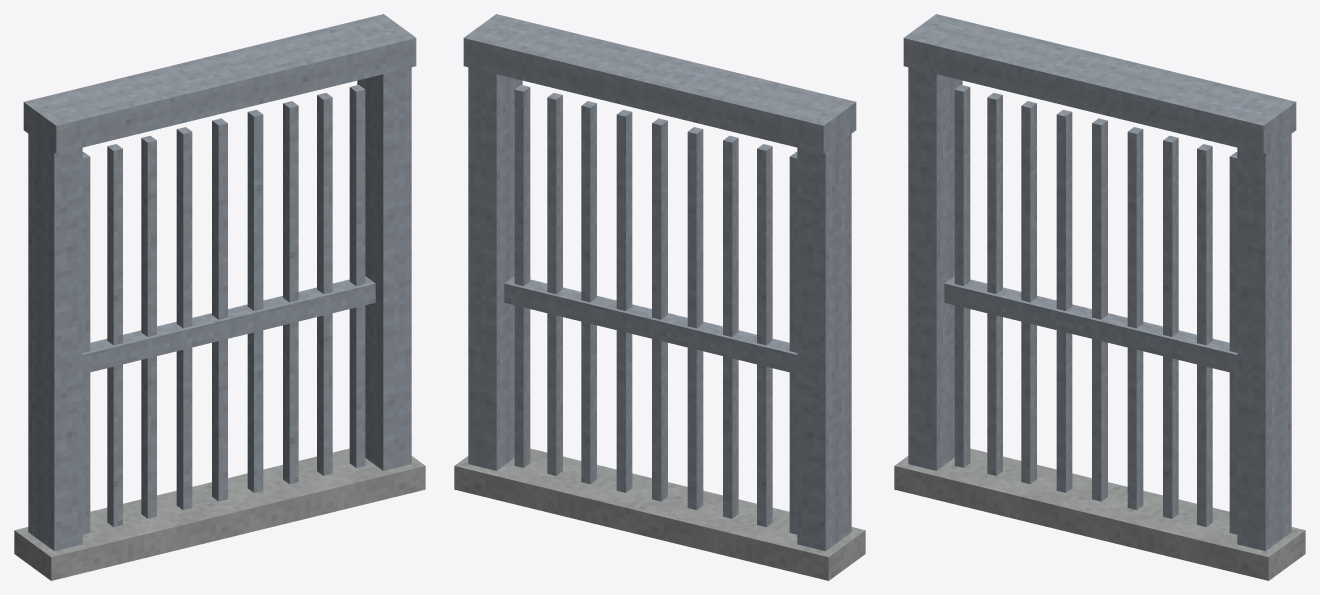
Rendered from level_blockout_prison_sally_gate.glb.
3 renders of one model, left to right at view 1: azimuth 30°, elevation 25°; view 2: azimuth 150°, elevation 25°; view 3: azimuth 330°, elevation 25°, orthographic.
Parts seen in each view (by area): view 1: level_blockout_prison_sally_gate; view 2: level_blockout_prison_sally_gate; view 3: level_blockout_prison_sally_gate.
Boxes of the visible parts, left/top/right/bottom form: level_blockout_prison_sally_gate: left=14, top=14, right=425, bottom=580; level_blockout_prison_sally_gate: left=454, top=14, right=865, bottom=580; level_blockout_prison_sally_gate: left=894, top=14, right=1305, bottom=580.
Size of the model in its own units: 2.64 by 3.05 by 0.45.
Materials: 2 (2 with a texture image).
